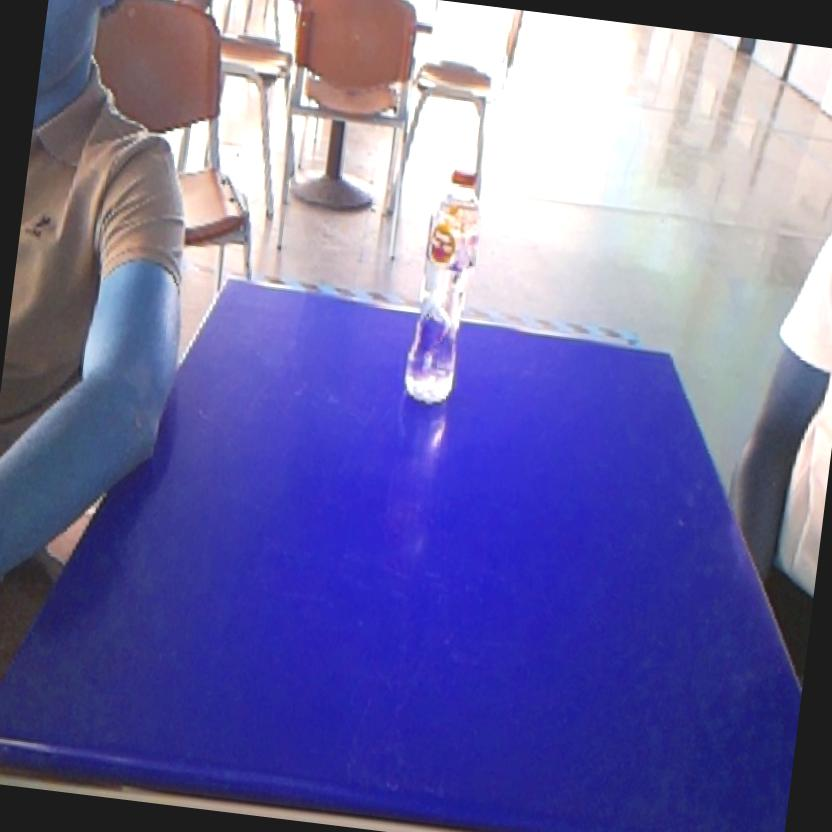good: (394, 152, 494, 420)
